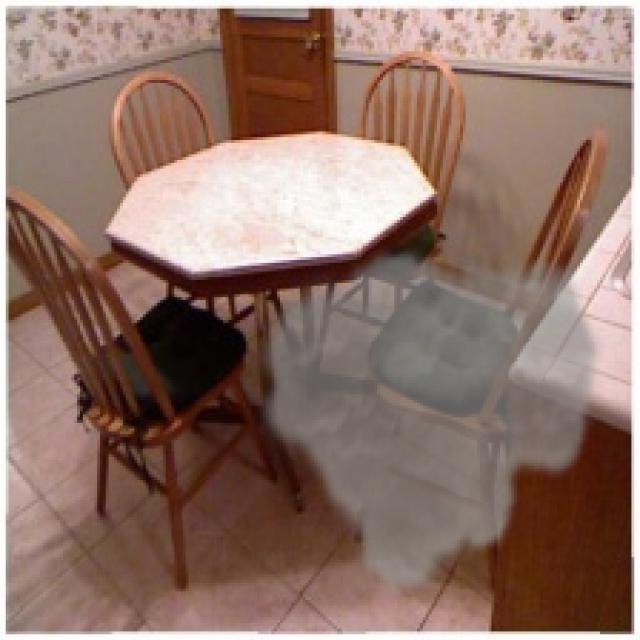smoke: (248, 246, 606, 603)
